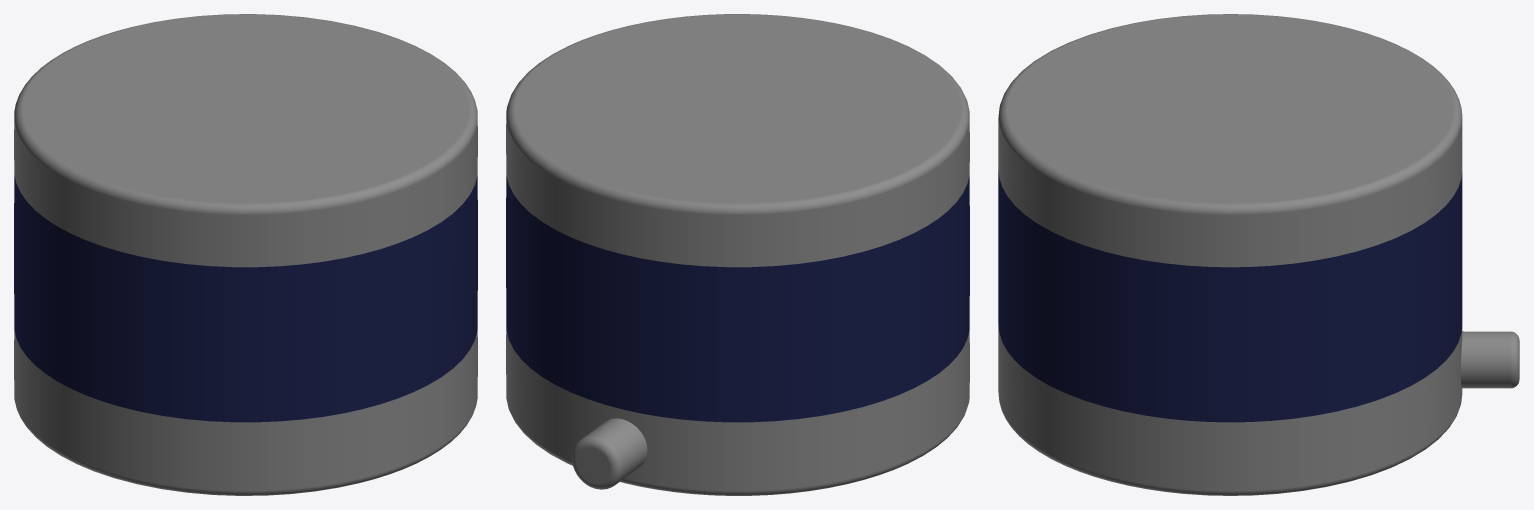
The model's file is VelodynePuck.fbx.
3 views of the same model, side by side, from view 1: azimuth 30°, elevation 25°; view 2: azimuth 150°, elevation 25°; view 3: azimuth 270°, elevation 25° (orthographic).
Parts seen in each view (by area): view 1: Body3, Body2, Body1; view 2: Body3, Body2, Body1; view 3: Body3, Body2, Body1.
Boxes of the visible parts, bbox=[...] form: Body3: bbox=[14, 14, 477, 267]; Body2: bbox=[14, 175, 477, 422]; Body1: bbox=[14, 330, 477, 495]; Body3: bbox=[506, 14, 969, 267]; Body2: bbox=[506, 175, 969, 422]; Body1: bbox=[506, 330, 969, 495]; Body3: bbox=[998, 14, 1462, 267]; Body2: bbox=[998, 169, 1462, 422]; Body1: bbox=[998, 324, 1519, 495].
Size of the model in its own units: 103 by 71.7 by 116.
